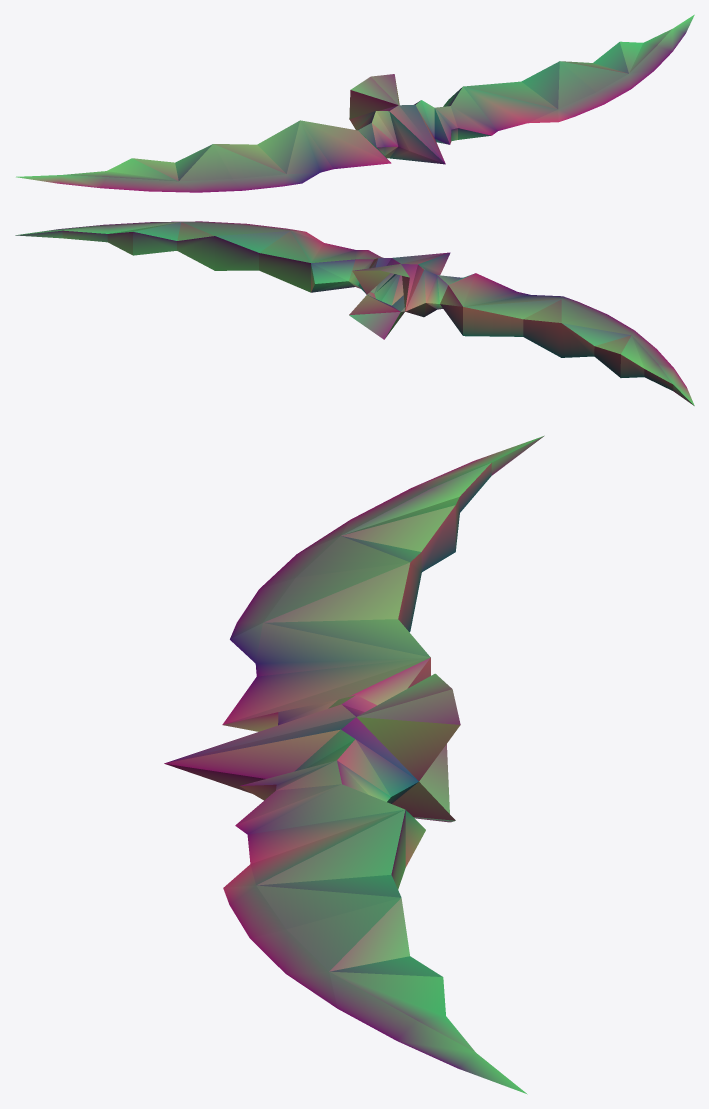
File: Eff_DeathXIII_Weapon_01.fbx
3 views of the same model, one above another, from view 1: azimuth 30°, elevation 25°; view 2: azimuth 150°, elevation 25°; view 3: azimuth 270°, elevation 25° (orthographic). The views are drawn at different scales.
Visible parts, largest first — view 1: Eff_DeathXIII_Weapon_01; view 2: Eff_DeathXIII_Weapon_01; view 3: Eff_DeathXIII_Weapon_01.
Boxes of the visible parts, bbox=[...] form: Eff_DeathXIII_Weapon_01: bbox=[16, 14, 694, 192]; Eff_DeathXIII_Weapon_01: bbox=[15, 221, 694, 405]; Eff_DeathXIII_Weapon_01: bbox=[164, 435, 544, 1094].
Bounding box in the file's own units: 2.28 × 0.2199 × 0.5577.
